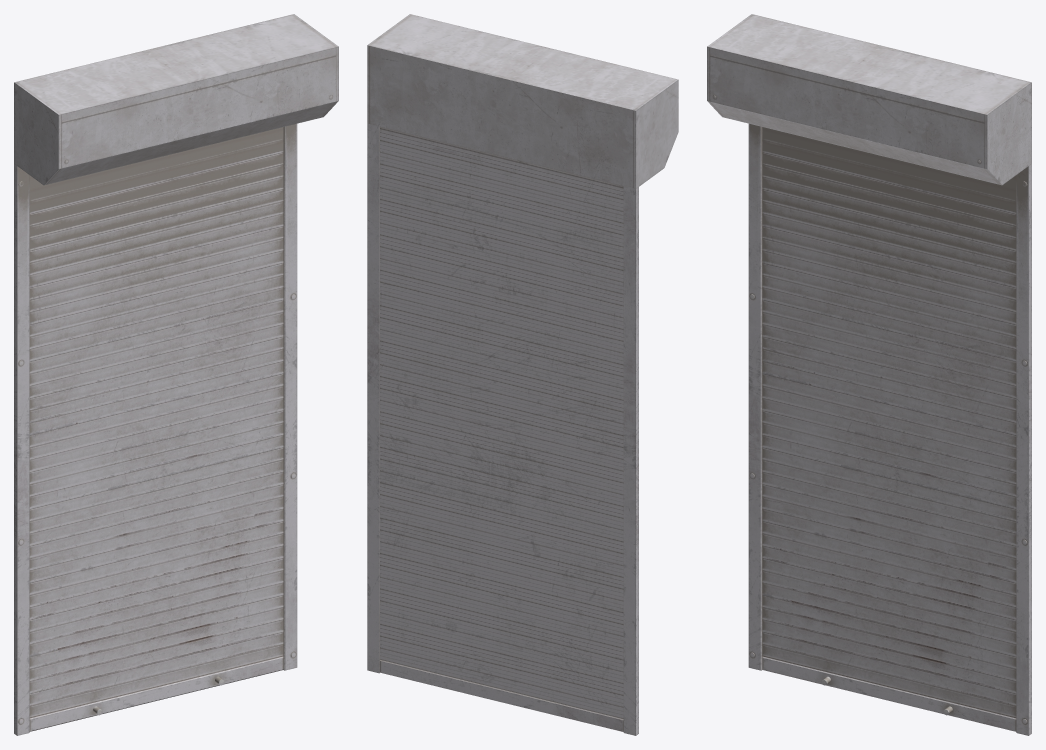
The model's file is polyhaven-rollershutter-door.glb.
3 renders of one model, left to right at view 1: azimuth 30°, elevation 25°; view 2: azimuth 150°, elevation 25°; view 3: azimuth 330°, elevation 25°, orthographic. The views are drawn at different scales.
Parts seen in each view (by area): view 1: shutter-curtain, shutter-frame; view 2: shutter-curtain, shutter-frame; view 3: shutter-curtain, shutter-frame.
Boxes of the visible parts, x1,y1,x2,y2 form: shutter-curtain: (29, 127, 283, 731); shutter-frame: (14, 14, 338, 735); shutter-curtain: (380, 126, 623, 731); shutter-frame: (367, 14, 678, 735); shutter-curtain: (762, 127, 1016, 731); shutter-frame: (707, 14, 1031, 735).
Size of the model in its own units: 1.08 by 2.4 by 0.3001.
Materials: 1 (1 with a texture image).
